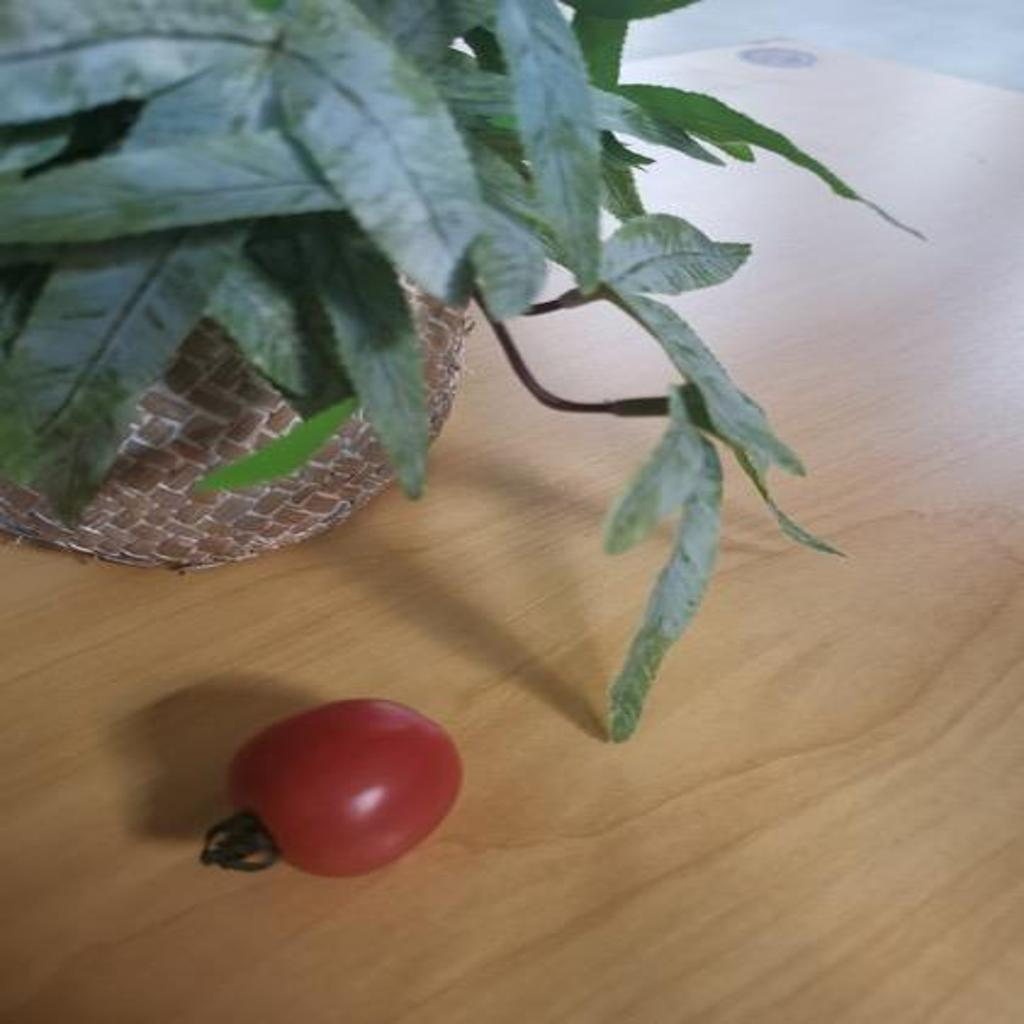tomato: (203, 694, 466, 889)
